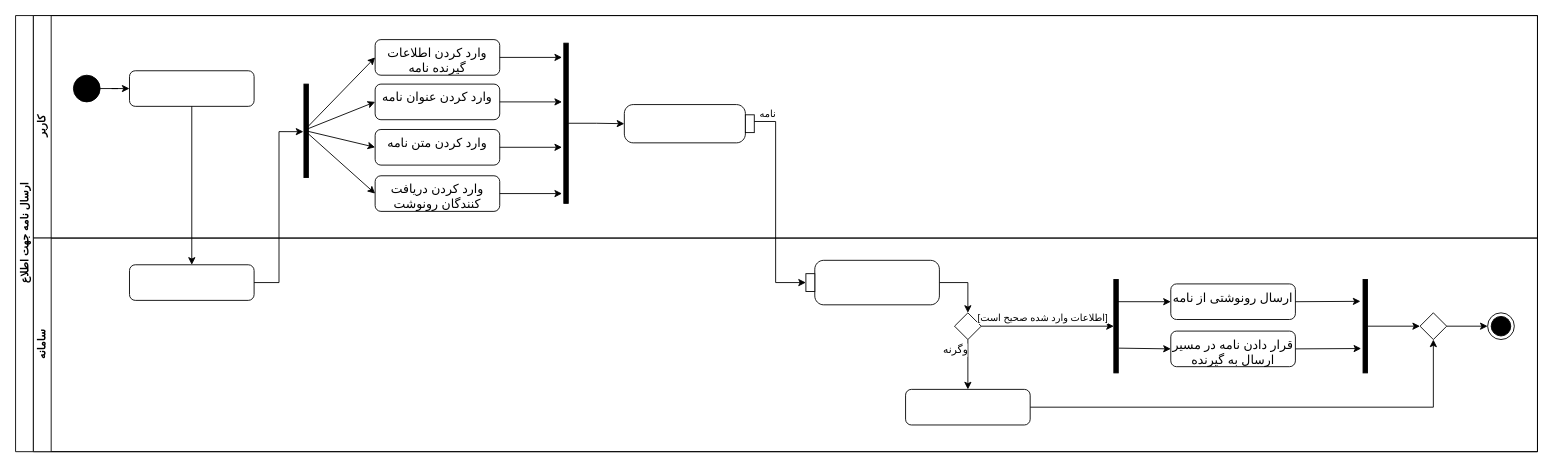
Some shapes in this 1553 by 467 pixel diagram are drawn without their labels. The centre of each missing label's shape, as x and y in pixels:
اعلام نامعتبر بودن اطلاعات: point 967,406
بررسی اطلاعات: point 872,282
تایید اطلاعات نامه: point 688,123
درخواست ارسال نامه جدید: point 191,88
درخواست اطلاعات نامه: point 191,282
